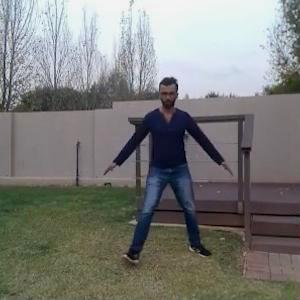land: (104, 75, 220, 275)
